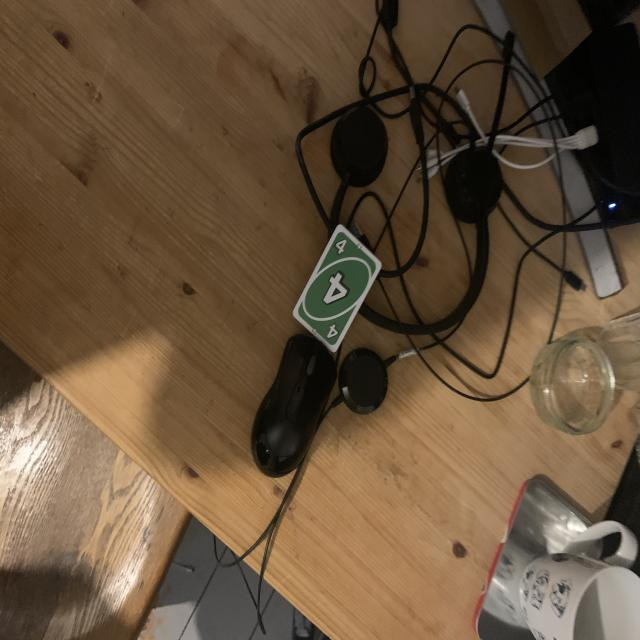lgreen-4: (331, 236, 351, 259)
